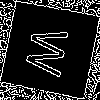W: (24, 24, 78, 80)
